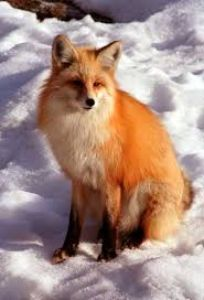fox: (43, 31, 188, 261)
